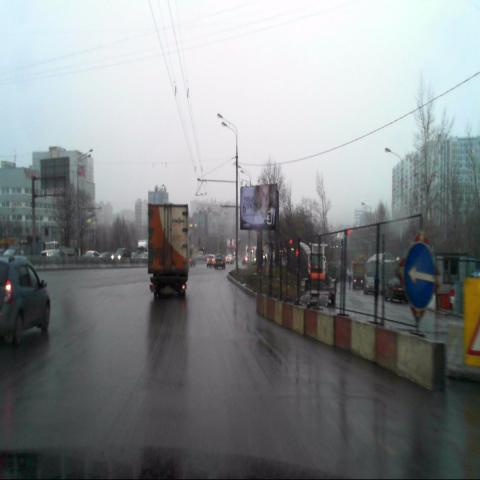4_1_2_2: (405, 241, 436, 310)
